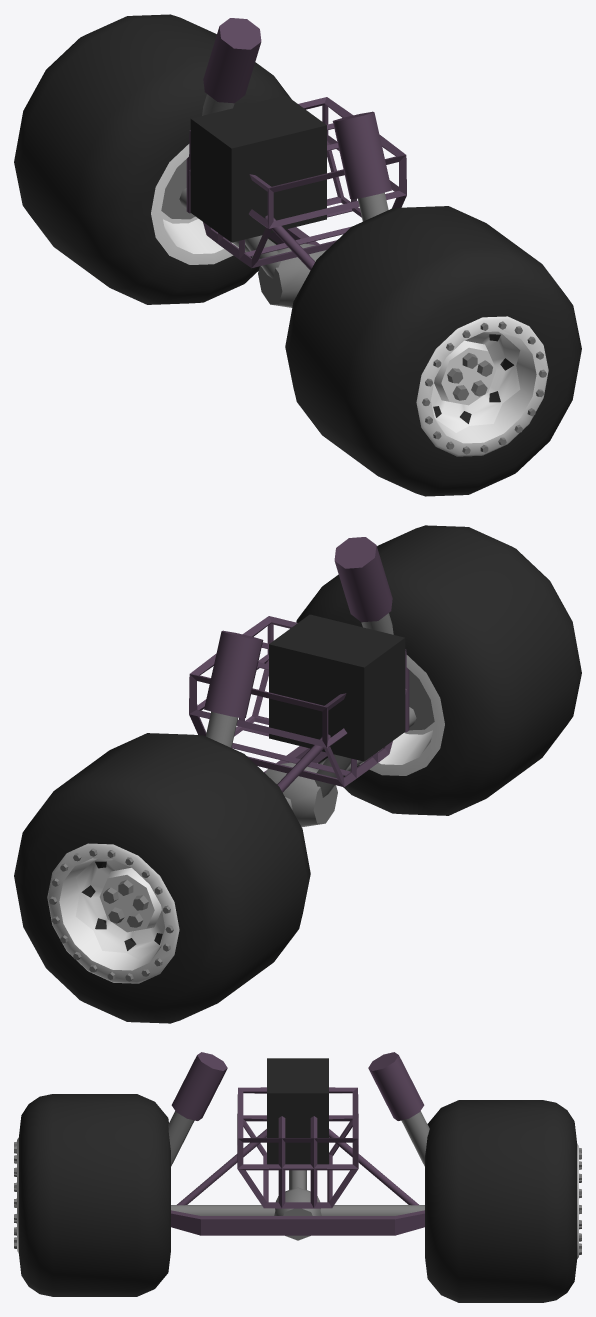
File: SM_Wheel_Common_4x4.fbx
3 renders of one model, top to bottom at view 1: azimuth 30°, elevation 25°; view 2: azimuth 150°, elevation 25°; view 3: azimuth 270°, elevation 25°, orthographic. The views are drawn at different scales.
Visible parts, largest first — view 1: WheelL, WheelR, Axel.003; view 2: WheelR, WheelL, Axel.003; view 3: WheelL, WheelR, Axel.003.
Part boxes in pixels (bbox=[...]): WheelL: bbox=[285, 206, 581, 496]; WheelR: bbox=[14, 14, 291, 304]; Axel.003: bbox=[179, 18, 406, 307]; WheelR: bbox=[14, 733, 310, 1023]; WheelL: bbox=[296, 525, 581, 815]; Axel.003: bbox=[189, 537, 416, 827]; WheelL: bbox=[14, 1094, 170, 1296]; WheelR: bbox=[425, 1100, 581, 1302]; Axel.003: bbox=[168, 1052, 429, 1240].
Size of the model in its own units: 60 by 77.61 by 168.
